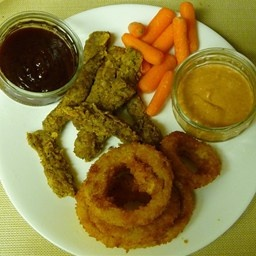background: (11, 0, 102, 101), (0, 10, 30, 37)
